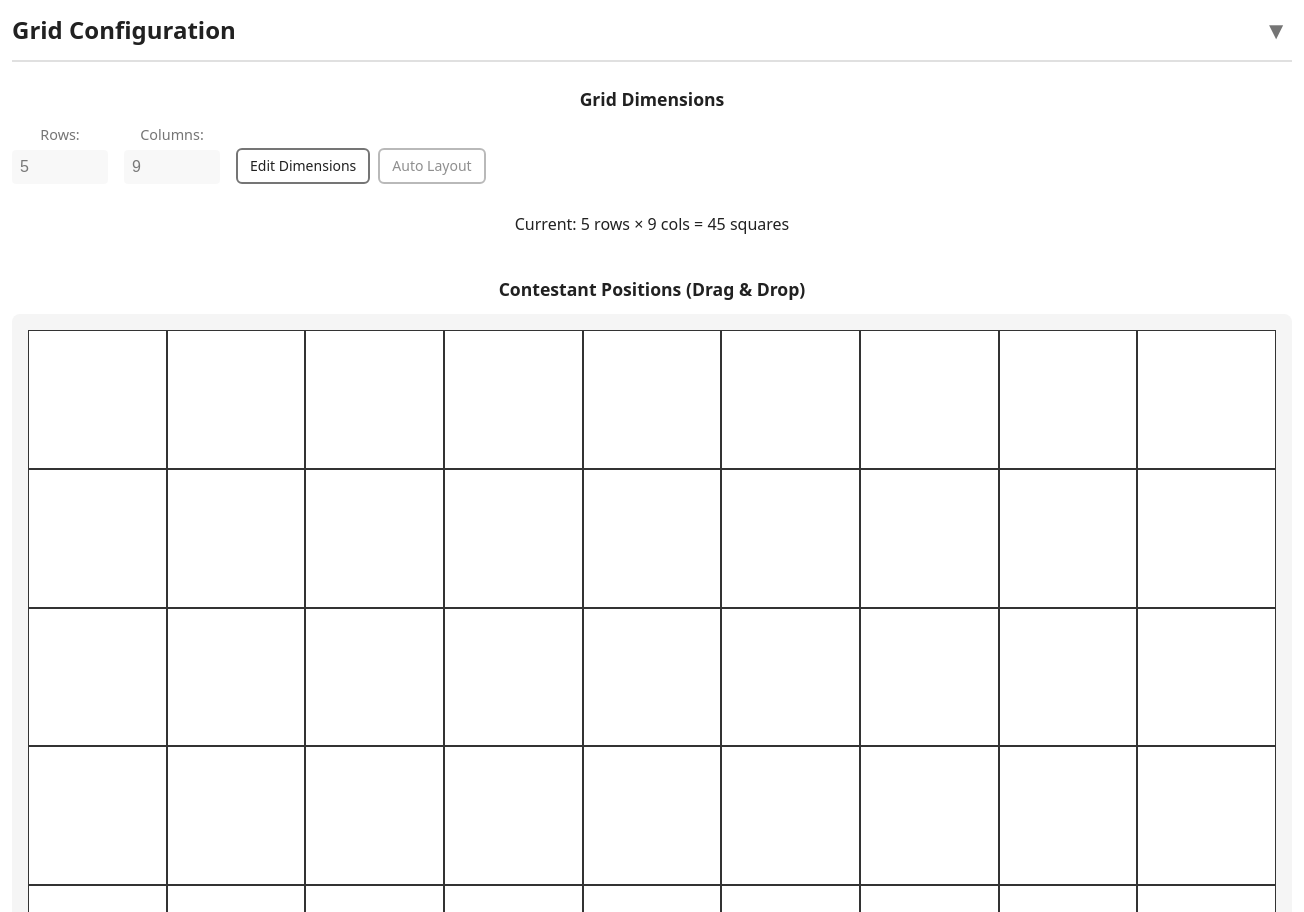
Scenario: GridConfigurator › allows editing grid dimensions
The width and height of the screenshot is (1304, 912).
// Click Edit Dimensions button
Click the button "Edit Dimensions" at (303, 166), box left=236, top=148, right=370, bottom=184
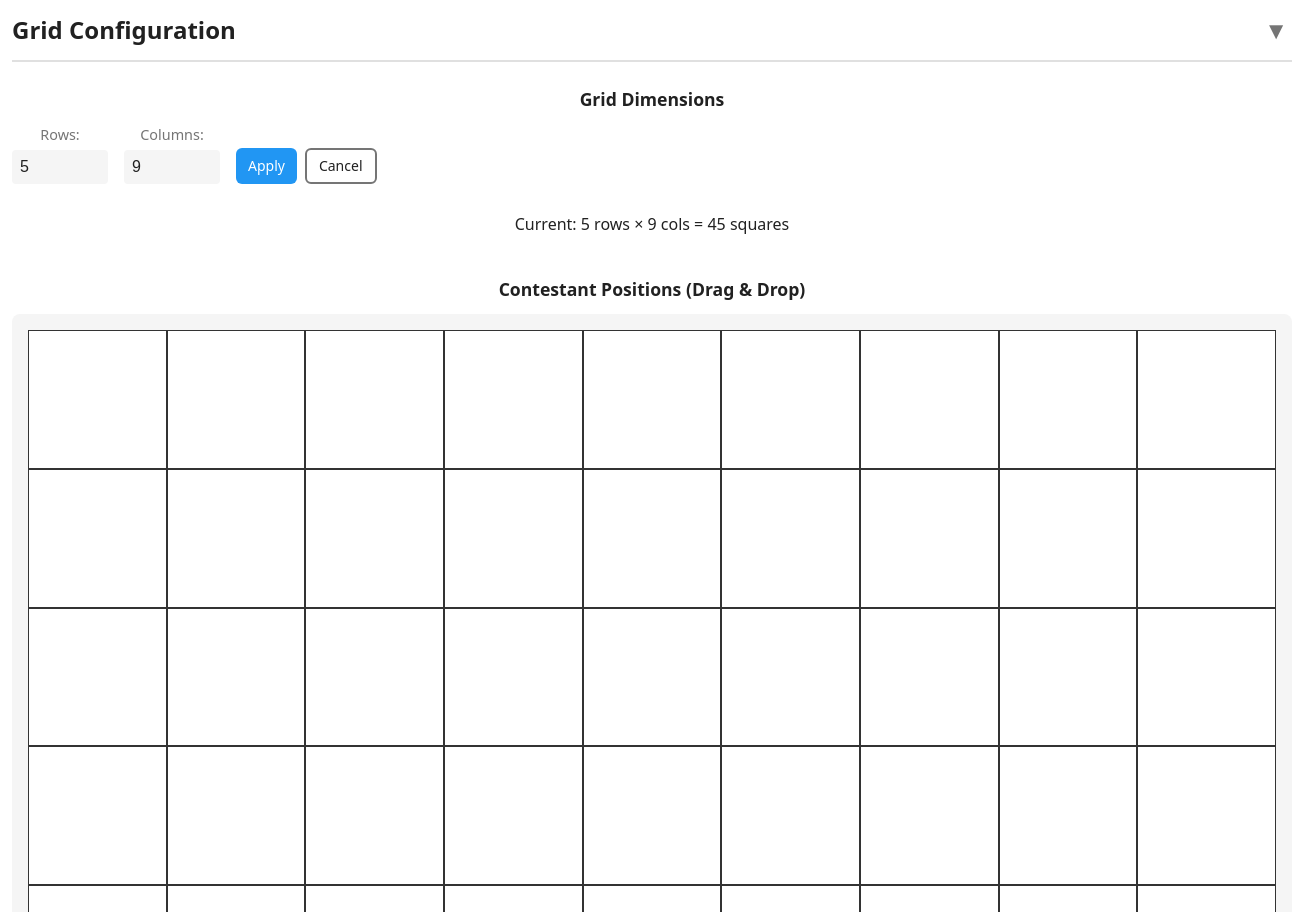
expect the number field labelled "Rows:" is enabled: met, box left=12, top=150, right=108, bottom=184
expect the number field labelled "Columns:" is enabled: met, box left=124, top=150, right=220, bottom=184
